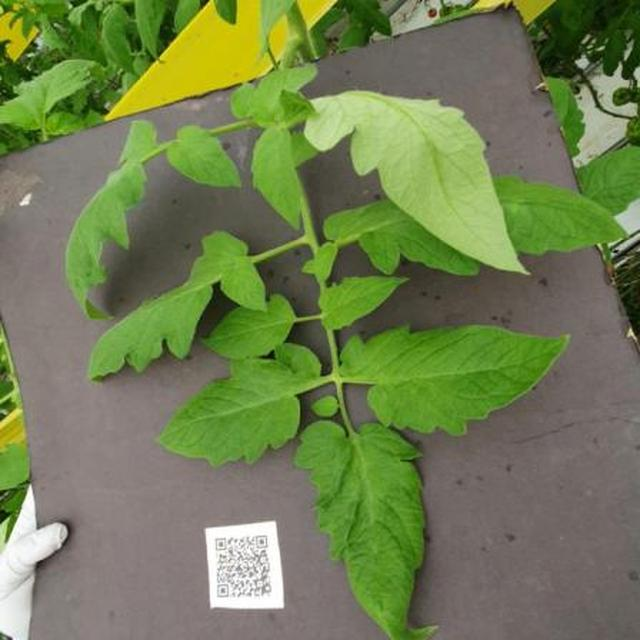Healthy Leaf: (72, 80, 640, 640)
